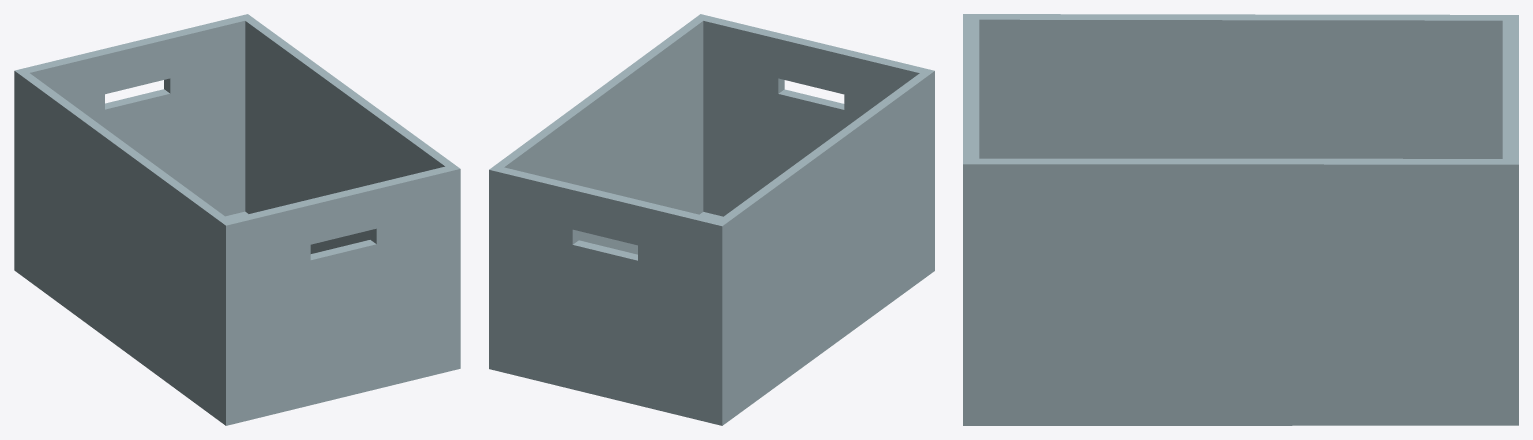
The model's file is warehouse_035.glb.
The picture shows the model from 3 angles, left to right: view 1: azimuth 30°, elevation 25°; view 2: azimuth 150°, elevation 25°; view 3: azimuth 270°, elevation 25°; orthographic projection. The views are drawn at different scales.
Parts seen in each view (by area): view 1: warehouse_035; view 2: warehouse_035; view 3: warehouse_035.
Boxes of the visible parts, left/top/right/bottom form: warehouse_035: left=14, top=14, right=460, bottom=425; warehouse_035: left=489, top=14, right=934, bottom=425; warehouse_035: left=963, top=14, right=1518, bottom=425.
Size of the model in its own units: 0.419 by 0.3418 by 0.6566.
Materials: 1 (1 with a texture image).
